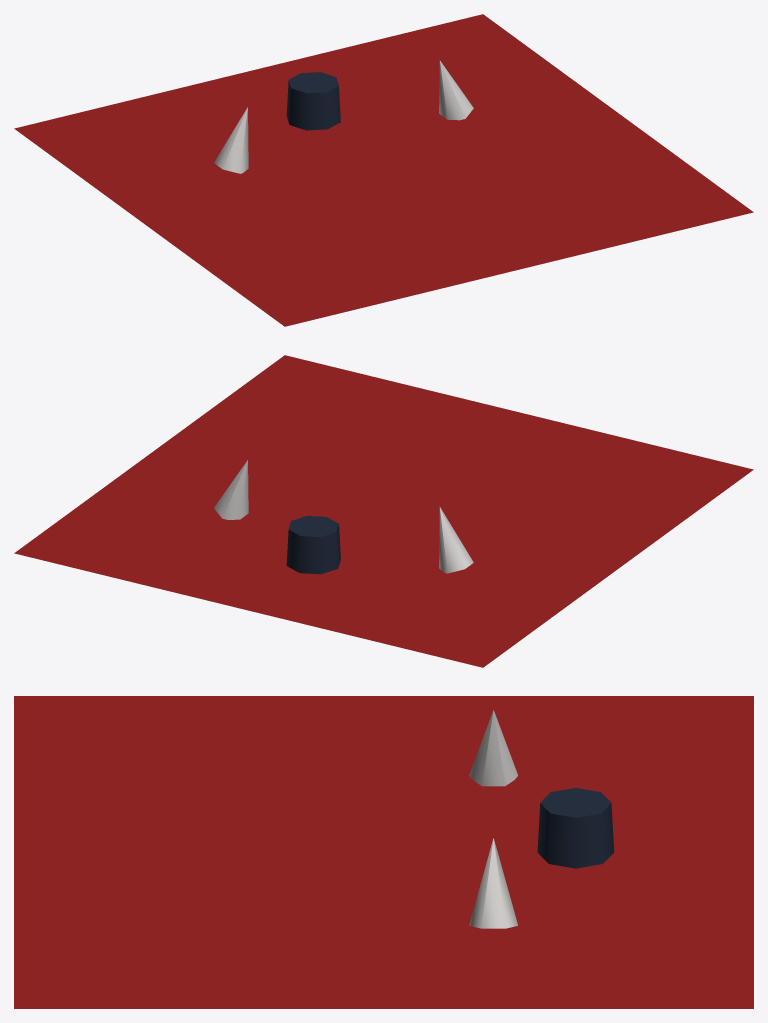
File: tar_05.glb
3 views of the same model, one above another, from view 1: azimuth 30°, elevation 25°; view 2: azimuth 150°, elevation 25°; view 3: azimuth 270°, elevation 25° (orthographic). The views are drawn at different scales.
Parts seen in each view (by area): view 1: scenario_base_floor, TAR_05; view 2: scenario_base_floor, TAR_05; view 3: scenario_base_floor, TAR_05.
Part boxes in pixels (x1=…): scenario_base_floor: x1=14, y1=14, x2=753, y2=326; TAR_05: x1=214, y1=60, x2=473, y2=199; scenario_base_floor: x1=14, y1=355, x2=753, y2=667; TAR_05: x1=214, y1=460, x2=473, y2=574; scenario_base_floor: x1=14, y1=696, x2=753, y2=1008; TAR_05: x1=288, y1=710, x2=614, y2=928.
Bounding box in the file's own units: 54 × 9.85 × 54.
